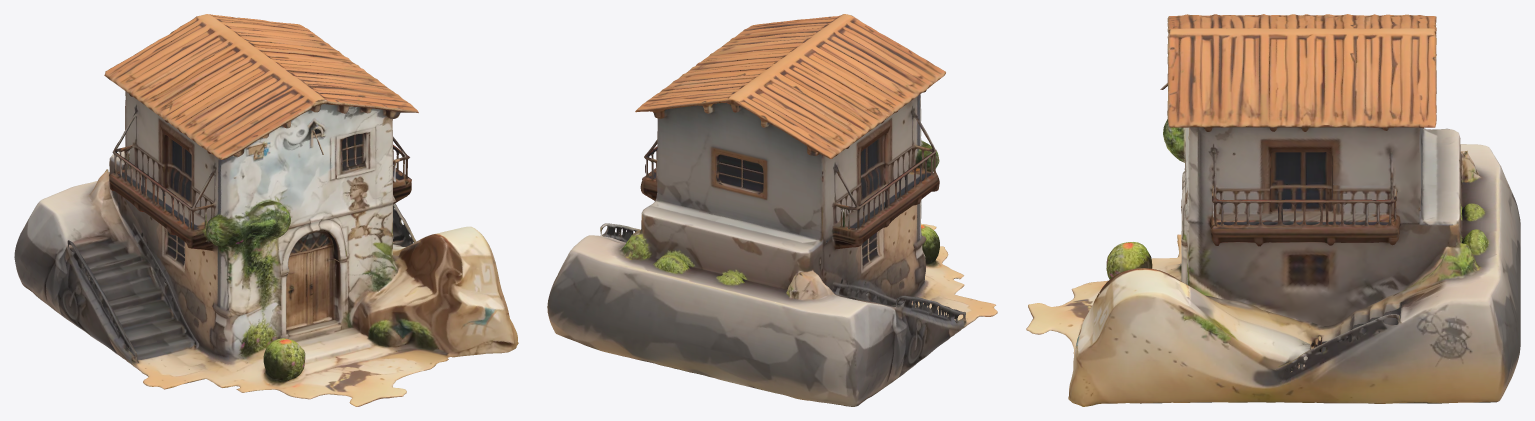
The model's file is old_castle_lev2.glb.
3 views of the same model, side by side, from view 1: azimuth 30°, elevation 25°; view 2: azimuth 150°, elevation 25°; view 3: azimuth 270°, elevation 25° (orthographic). The views are drawn at different scales.
Visible parts, largest first — view 1: model_0.001; view 2: model_0.001; view 3: model_0.001.
Boxes of the visible parts, left/top/right/bottom form: model_0.001: left=14, top=14, right=518, bottom=406; model_0.001: left=547, top=14, right=997, bottom=406; model_0.001: left=1026, top=14, right=1520, bottom=406.
Bounding box in the file's own units: 70.82 × 53.75 × 83.22.
1 material, 1 textured.
